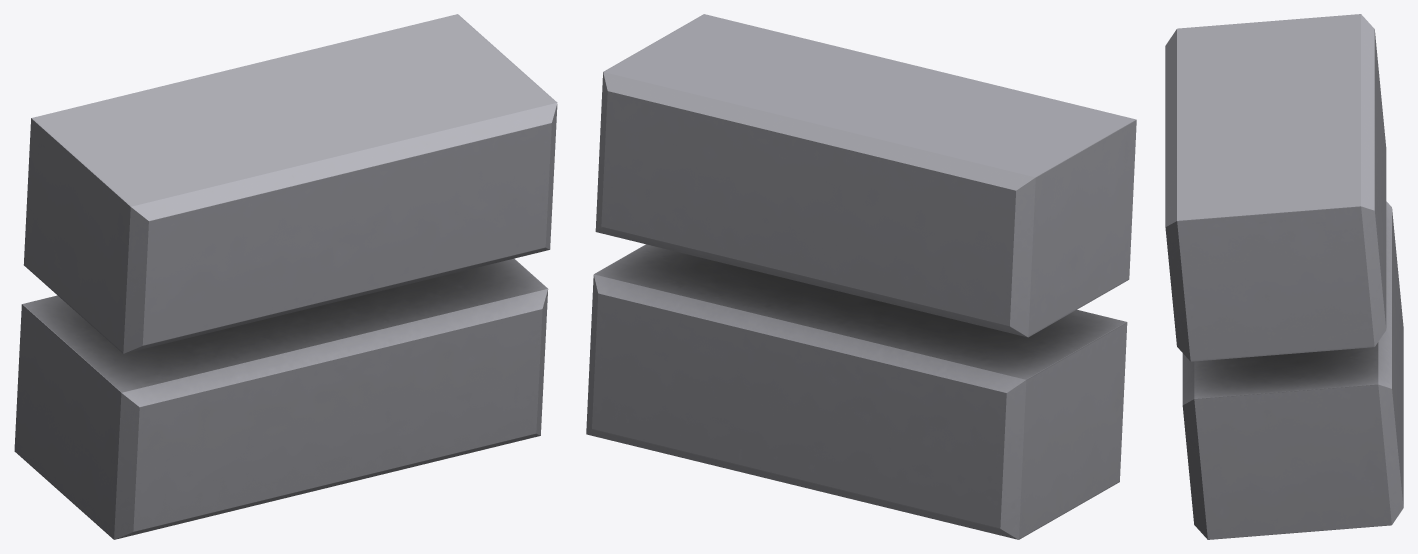
The model's file is Equal.FBX.
3 renders of one model, left to right at view 1: azimuth 30°, elevation 25°; view 2: azimuth 150°, elevation 25°; view 3: azimuth 270°, elevation 25°, orthographic. The views are drawn at different scales.
Visible parts, largest first — view 1: equal; view 2: equal; view 3: equal.
Part boxes in pixels (box(x1,y1,x2,y2)): equal: box(14, 14, 557, 539); equal: box(586, 14, 1136, 539); equal: box(1165, 14, 1403, 539).
Size of the model in its own units: 71.48 by 57.8 by 37.38.
